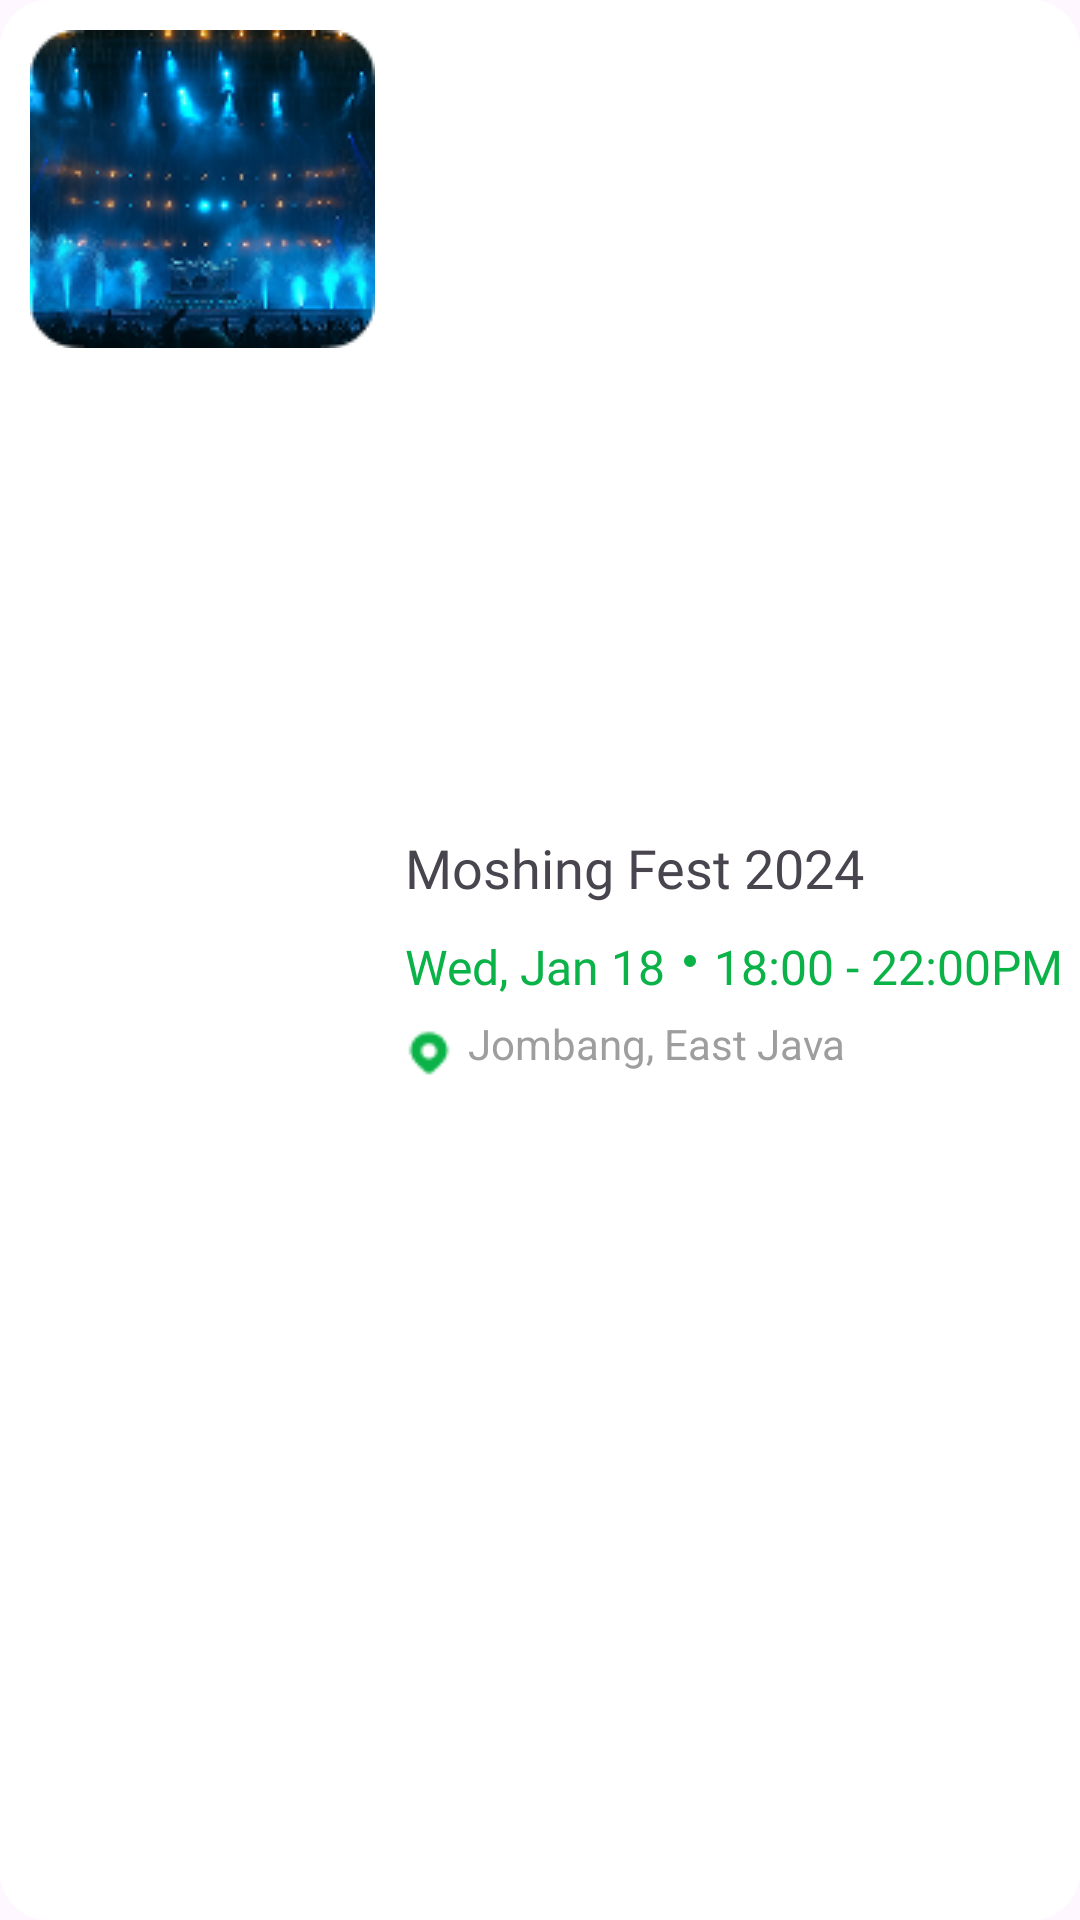

Point at icon controls on the screen. Image size 1080 × 1920, points as (x,y).
location: (429,1053)
moshing: (202,189)
